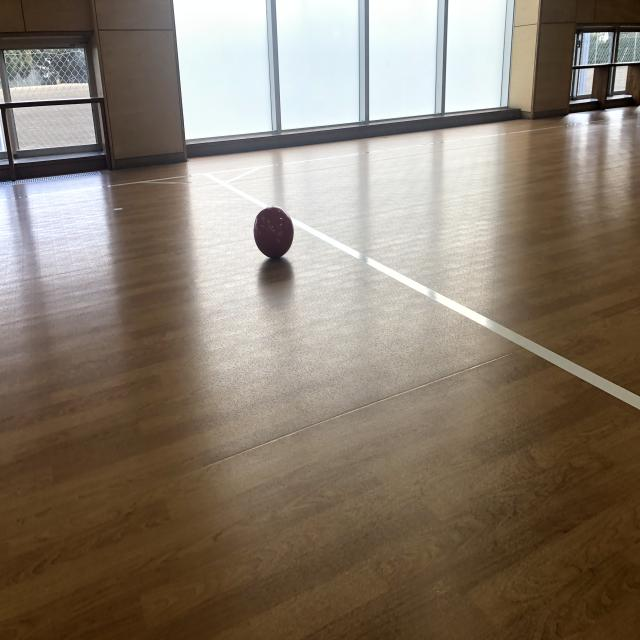red_ball: (254, 209, 290, 257)
